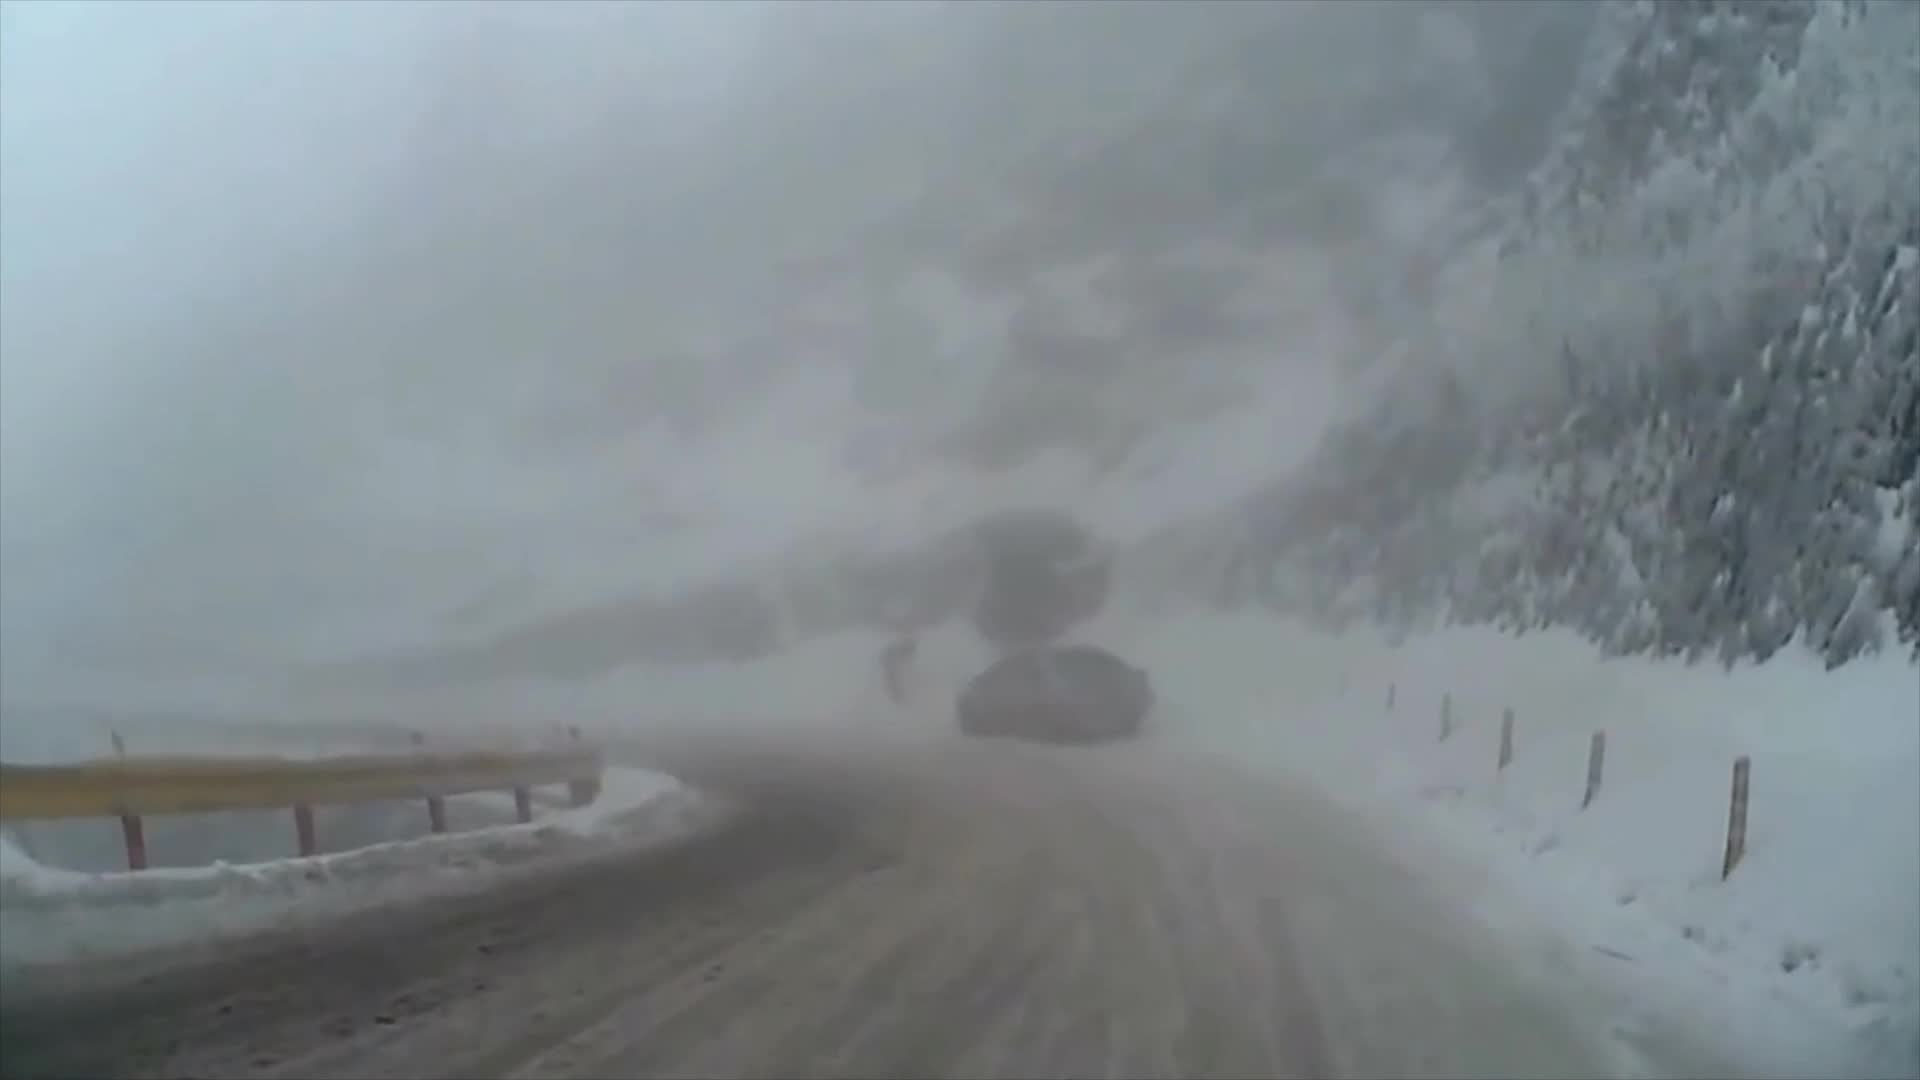pedestrian: (878, 638, 918, 710)
vehicle: (954, 643, 1149, 740)
